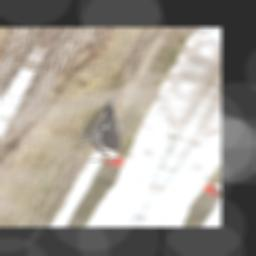Woodpecker: (64, 89, 159, 171)
